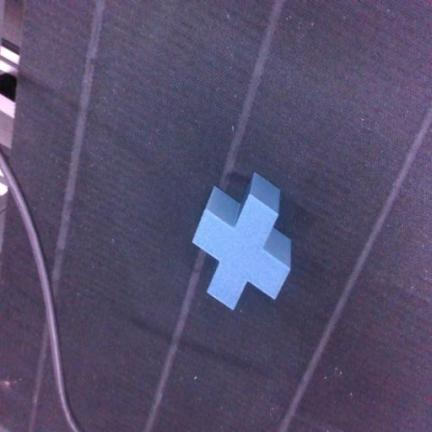cross: (193, 173, 291, 309)
